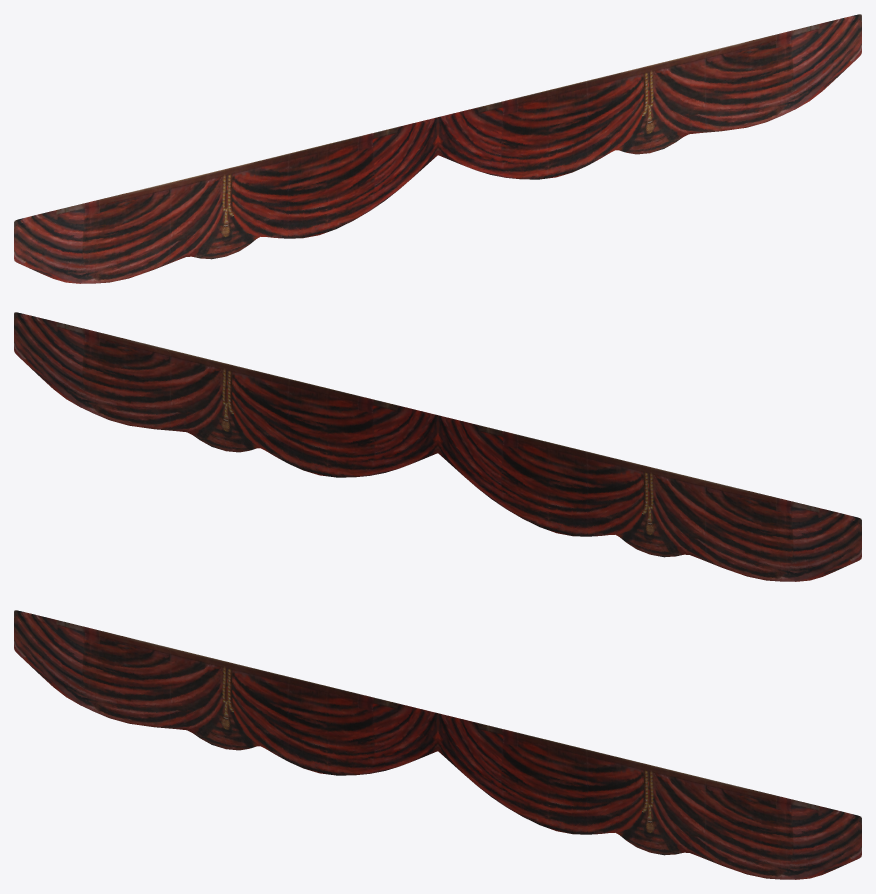
Rendered from Vorhang.v03.fbx.
The picture shows the model from 3 angles, top to bottom: view 1: azimuth 30°, elevation 25°; view 2: azimuth 150°, elevation 25°; view 3: azimuth 330°, elevation 25°; orthographic projection.
Visible parts, largest first — view 1: Plane; view 2: Plane; view 3: Plane.
Part boxes in pixels (x1,y1,x2,y2): Plane: (14, 14, 861, 283); Plane: (14, 312, 861, 581); Plane: (14, 610, 861, 879).
Size of the model in its own units: 947 by 95.42 by 1.27e-05.
Materials: 1 (1 with a texture image).
